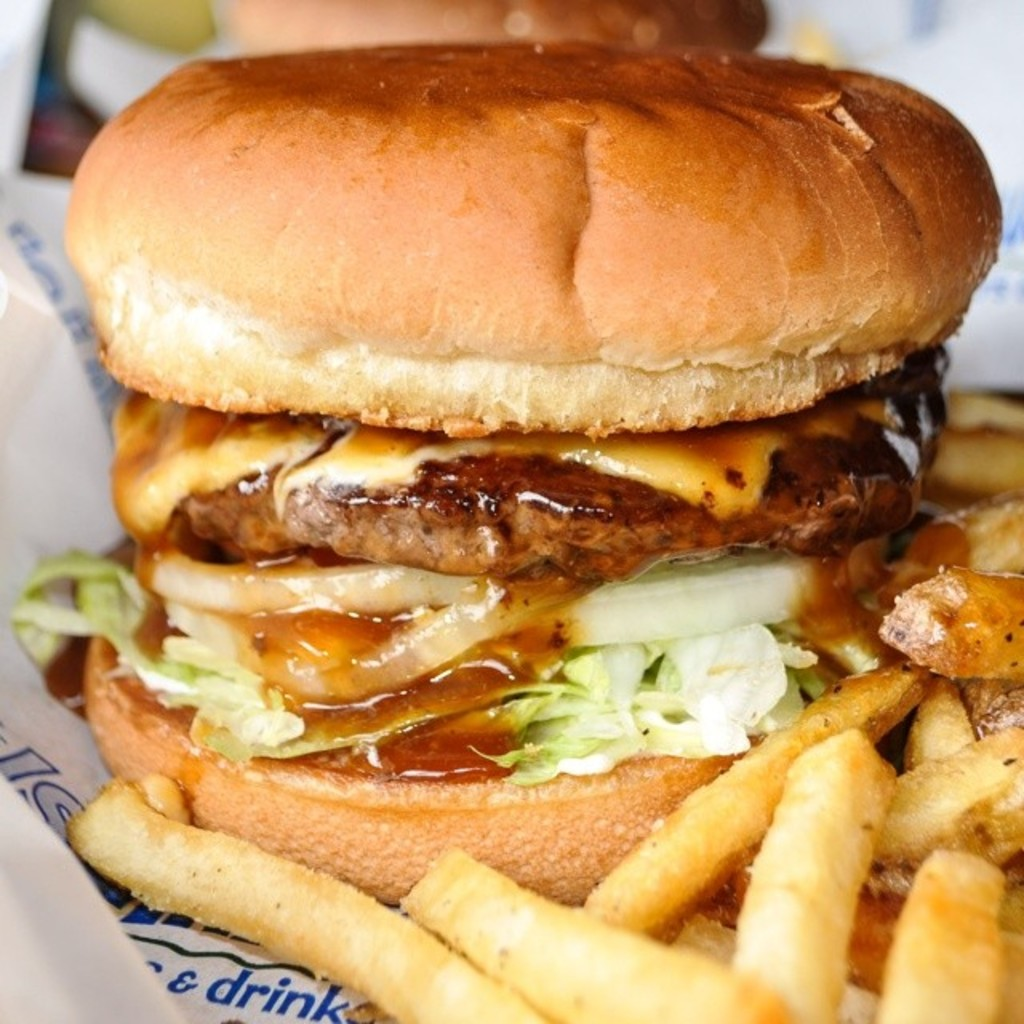French fries: (96, 388, 1022, 1022)
